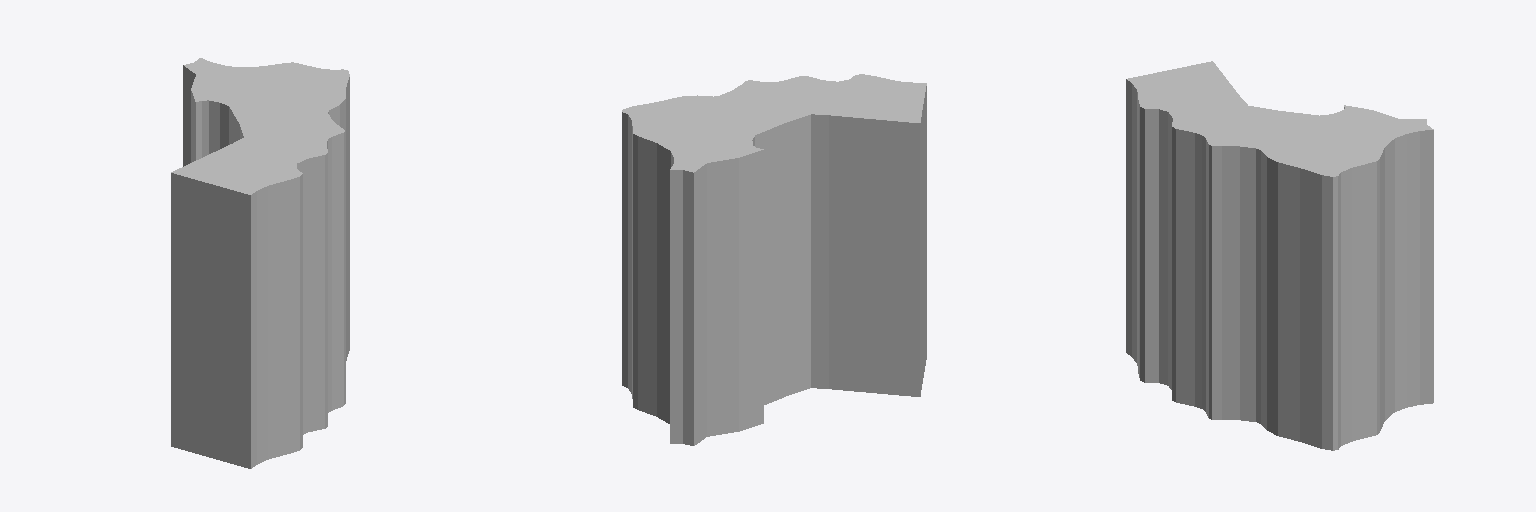
3 views of the same model, side by side, from view 1: azimuth 30°, elevation 25°; view 2: azimuth 150°, elevation 25°; view 3: azimuth 270°, elevation 25° (orthographic).
Parts seen in each view (by area): view 1: OM.002_CUCurve.1798; view 2: OM.002_CUCurve.1798; view 3: OM.002_CUCurve.1798.
Boxes of the visible parts, x1=… form: OM.002_CUCurve.1798: x1=171, y1=58, x2=349, y2=468; OM.002_CUCurve.1798: x1=622, y1=74, x2=926, y2=445; OM.002_CUCurve.1798: x1=1126, y1=61, x2=1433, y2=450.
Bounding box in the file's own units: 0.0454 × 0.05 × 0.0509.